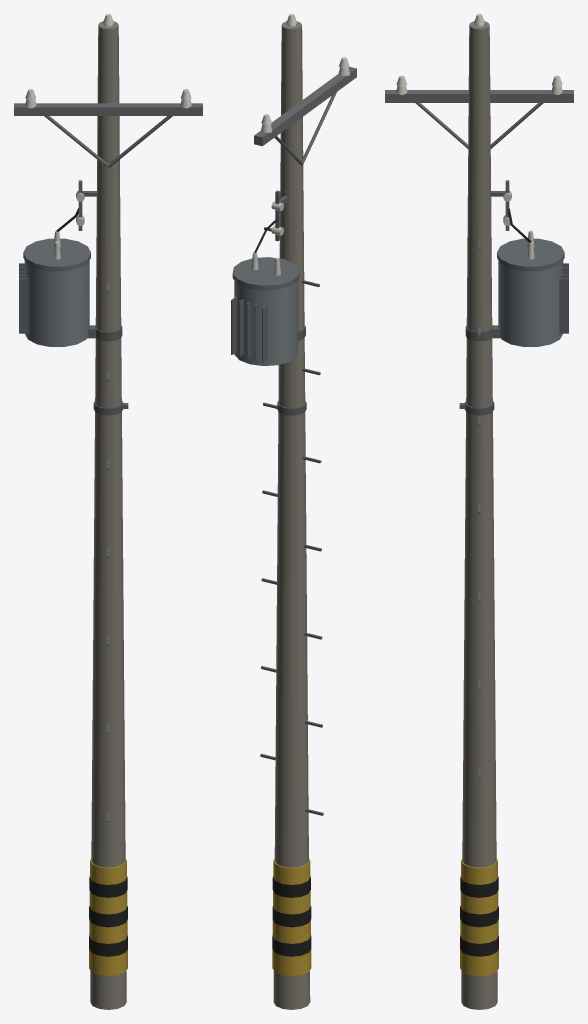
File: infra_utility_pole_01.glb
3 views of the same model, side by side, from view 1: azimuth 90°, elevation 25°; view 2: azimuth 150°, elevation 25°; view 3: azimuth 270°, elevation 25° (orthographic).
Parts seen in each view (by area): view 1: infra_utility_pole_01; view 2: infra_utility_pole_01; view 3: infra_utility_pole_01.
Boxes of the visible parts, left/top/right/bottom form: infra_utility_pole_01: left=14, top=14, right=202, bottom=1009; infra_utility_pole_01: left=231, top=14, right=356, bottom=1009; infra_utility_pole_01: left=385, top=14, right=573, bottom=1009.
Bounding box in the file's own units: 0.6666 × 10.1 × 1.75.
